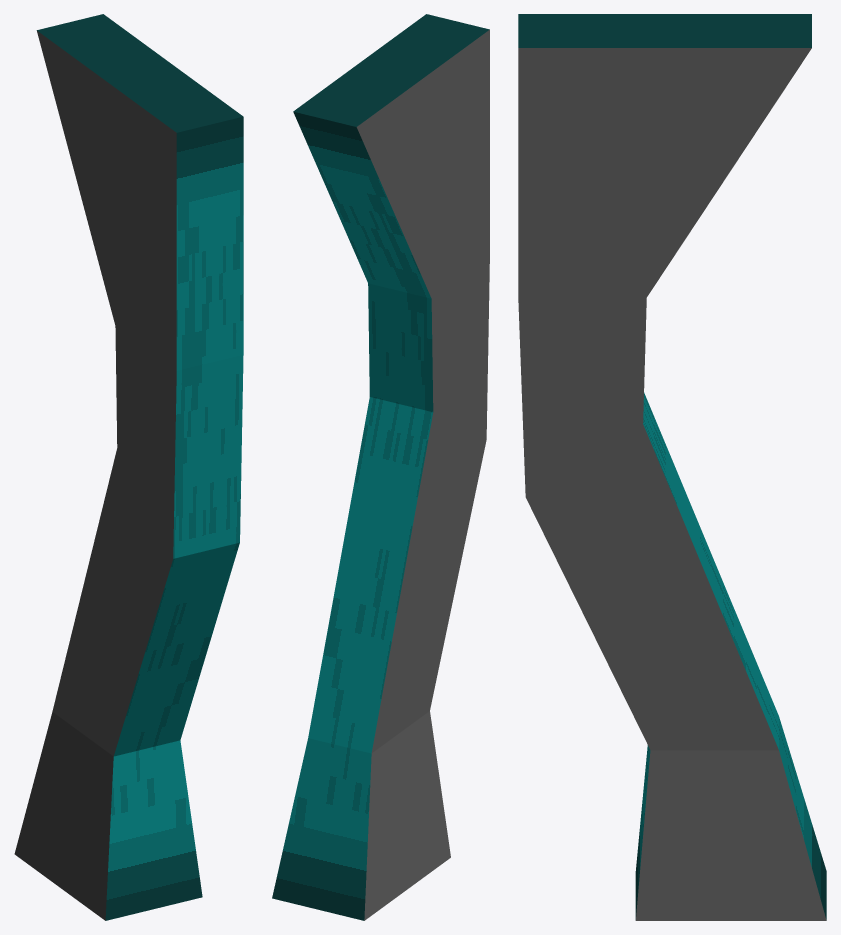
The picture shows the model from 3 angles, left to right: view 1: azimuth 30°, elevation 25°; view 2: azimuth 150°, elevation 25°; view 3: azimuth 270°, elevation 25°; orthographic projection. The views are drawn at different scales.
Visible parts, largest first — view 1: ss3d_40_pillar; view 2: ss3d_40_pillar; view 3: ss3d_40_pillar.
Part boxes in pixels (box(x1,y1,x2,y2)): ss3d_40_pillar: box(14, 14, 243, 920); ss3d_40_pillar: box(272, 14, 489, 920); ss3d_40_pillar: box(518, 14, 826, 920).
Size of the model in its own units: 0.25 by 2.03 by 0.6562.
Materials: 1 (1 with a texture image).
